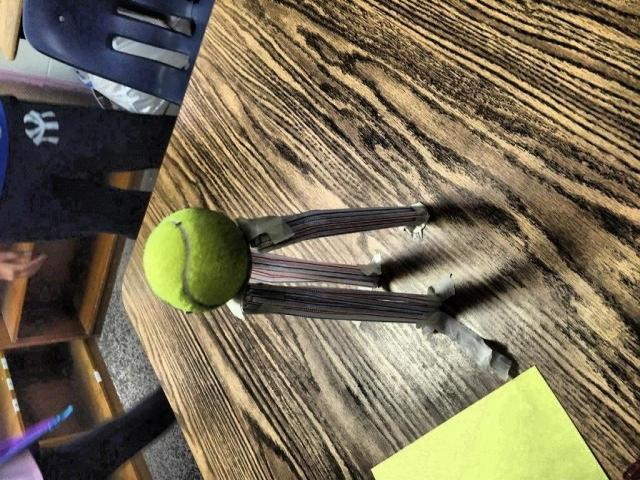tennis-ball: (142, 206, 250, 314)
